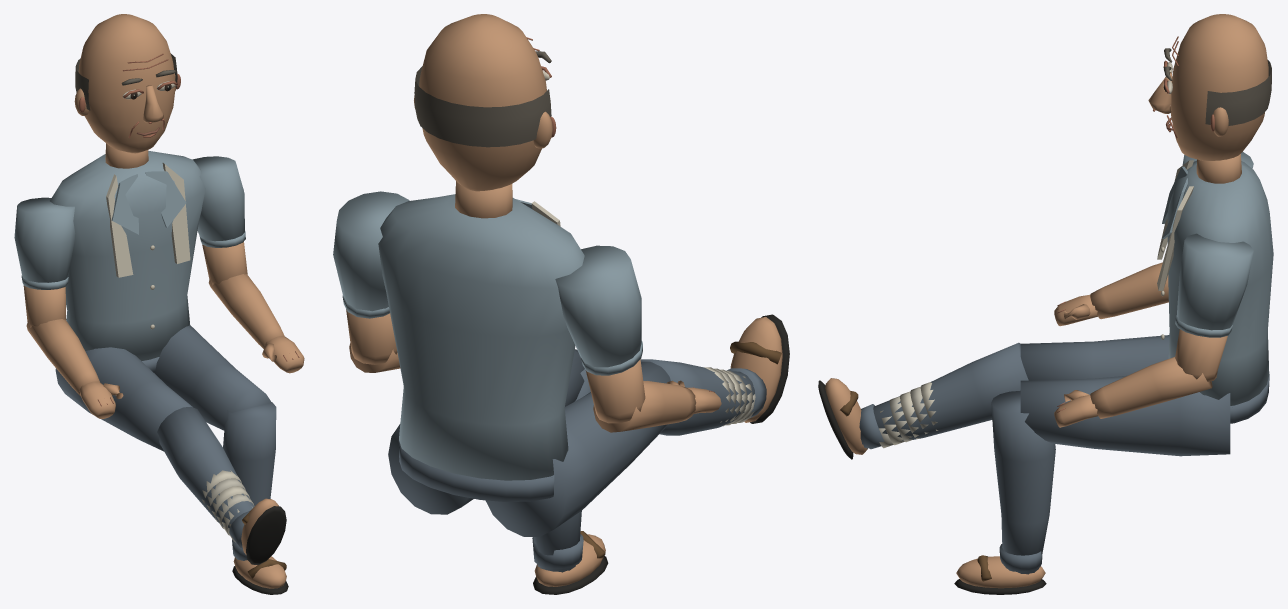
File: clinicPatient.glb
3 views of the same model, side by side, from view 1: azimuth 30°, elevation 25°; view 2: azimuth 150°, elevation 25°; view 3: azimuth 270°, elevation 25° (orthographic). The views are drawn at different scales.
Parts seen in each view (by area): view 1: body.011_mesh, head.011_mesh, shinL.011_mesh, armL.011_mesh, legR.011_mesh, shinR.011_mesh, legL.011_mesh, armR.011_mesh, forearmL.011_mesh, forearmR.011_mesh; view 2: body.011_mesh, head.011_mesh, armL.011_mesh, legL.011_mesh, shinL.011_mesh, armR.011_mesh, shinR.011_mesh, forearmL.011_mesh, legR.011_mesh; view 3: body.011_mesh, head.011_mesh, shinL.011_mesh, shinR.011_mesh, legR.011_mesh, armR.011_mesh, legL.011_mesh, forearmR.011_mesh, forearmL.011_mesh.
Boxes of the visible parts, x1,y1,x2,y2 form: body.011_mesh: (50,143,205,373); head.011_mesh: (74,14,180,153); shinL.011_mesh: (157,406,286,564); armL.011_mesh: (14,197,75,327); legR.011_mesh: (155,325,271,430); shinR.011_mesh: (223,402,288,594); legL.011_mesh: (55,347,192,451); armR.011_mesh: (192,156,247,285); forearmL.011_mesh: (26,319,123,418); forearmR.011_mesh: (208,274,304,373); body.011_mesh: (378,181,584,501); head.011_mesh: (414,14,556,191); armL.011_mesh: (555,245,645,423); legL.011_mesh: (485,361,670,536); shinL.011_mesh: (640,314,789,435); armR.011_mesh: (333,191,409,364); shinR.011_mesh: (532,349,608,594); forearmL.011_mesh: (593,380,721,432); legR.011_mesh: (388,350,584,514); body.011_mesh: (1157,154,1273,423); head.011_mesh: (1148,14,1271,160); shinL.011_mesh: (818,342,1028,459); shinR.011_mesh: (954,390,1055,594); legR.011_mesh: (1020,375,1230,456); armR.011_mesh: (1175,233,1253,381); legL.011_mesh: (1020,335,1169,380); forearmR.011_mesh: (1054,357,1212,427); forearmL.011_mesh: (1054,262,1168,326).
Bounding box in the file's own units: 0.5562 × 1.2 × 0.8967.
